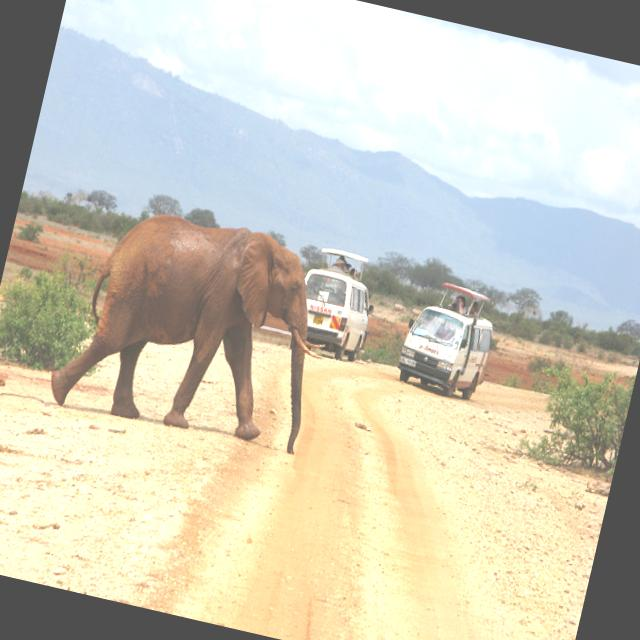Vehicle: (390, 274, 504, 407), (290, 266, 376, 364)
